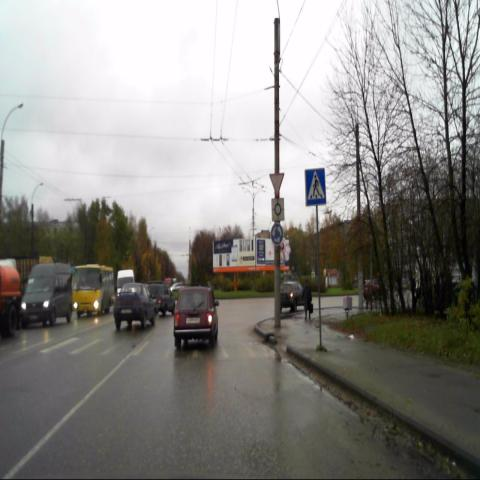4_3: (270, 222, 284, 245)
8_13_1: (271, 198, 285, 221)
